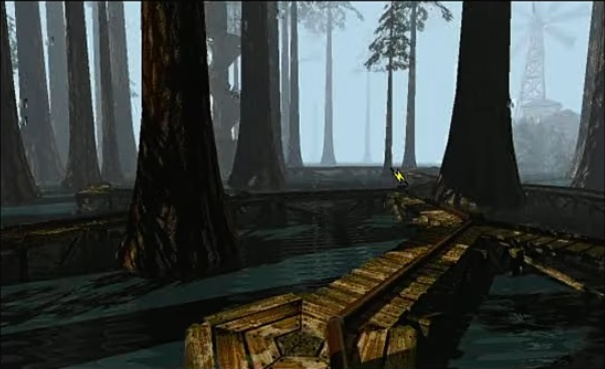Keep: (391, 165, 408, 185)
